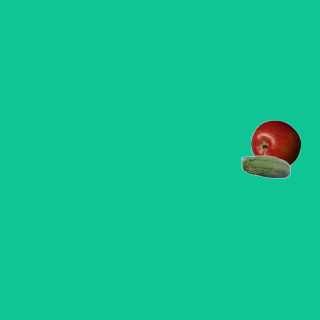Apple Braeburn: (250, 119, 300, 169)
Corn Husk: (240, 143, 290, 193)
